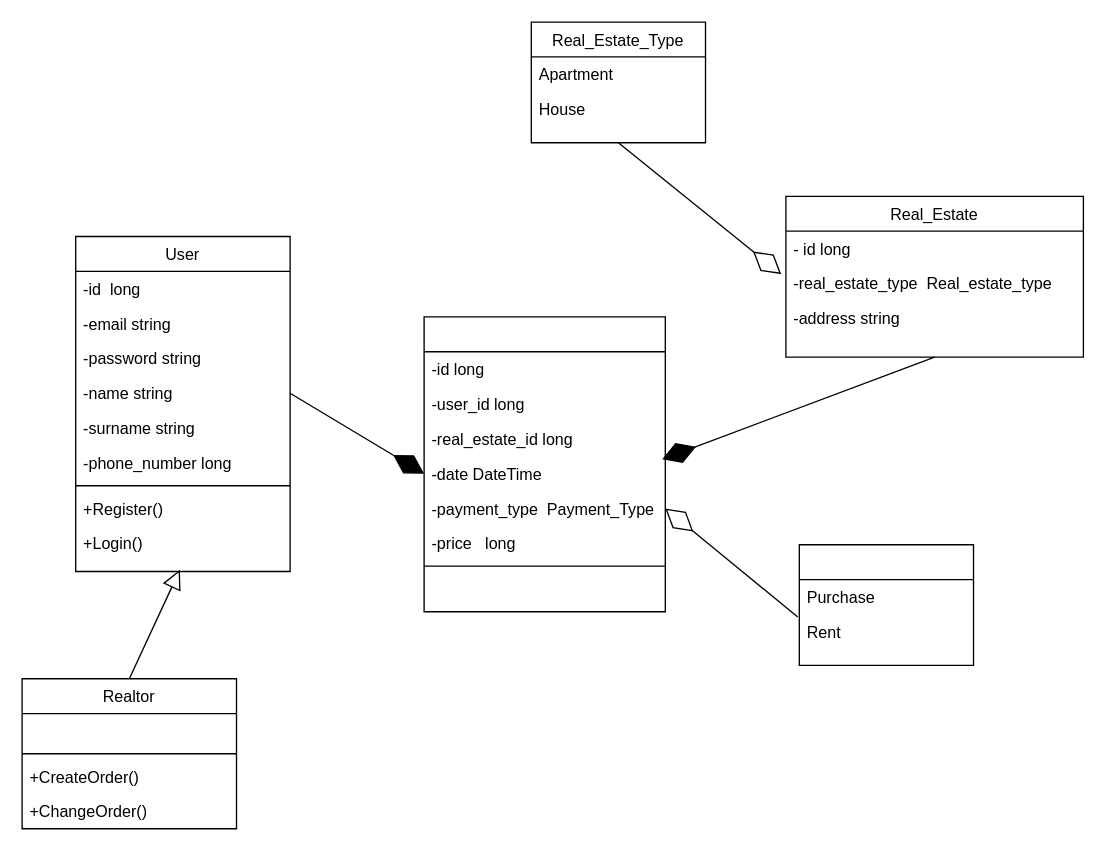
Some shapes in this 1106 by 851 pixel diagram are drawn without their labels. Each missing label, with the box of its shape:
Payment_type: (798, 543, 974, 665)
Work_Contract: (423, 316, 665, 612)
